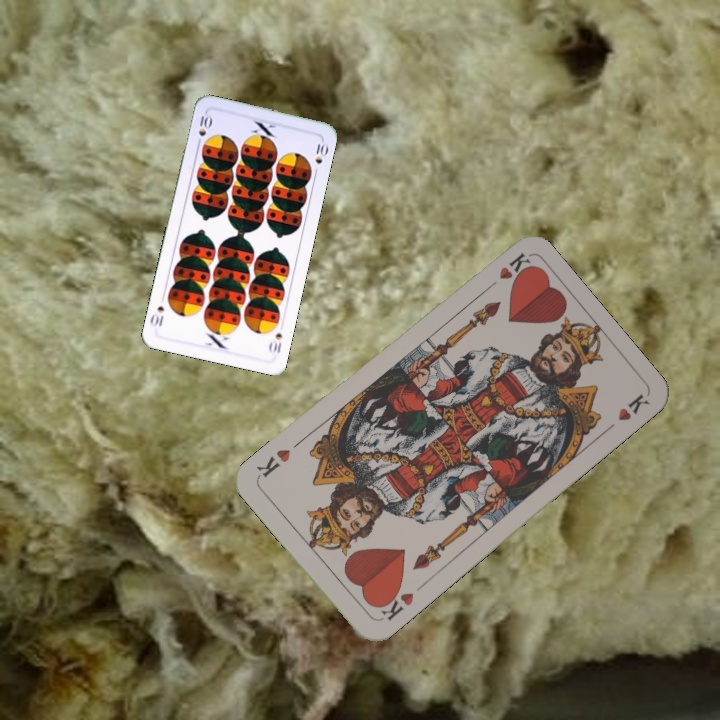HK: (479, 249, 533, 295), (373, 583, 417, 624)
S10: (193, 112, 214, 149), (265, 329, 285, 356)
